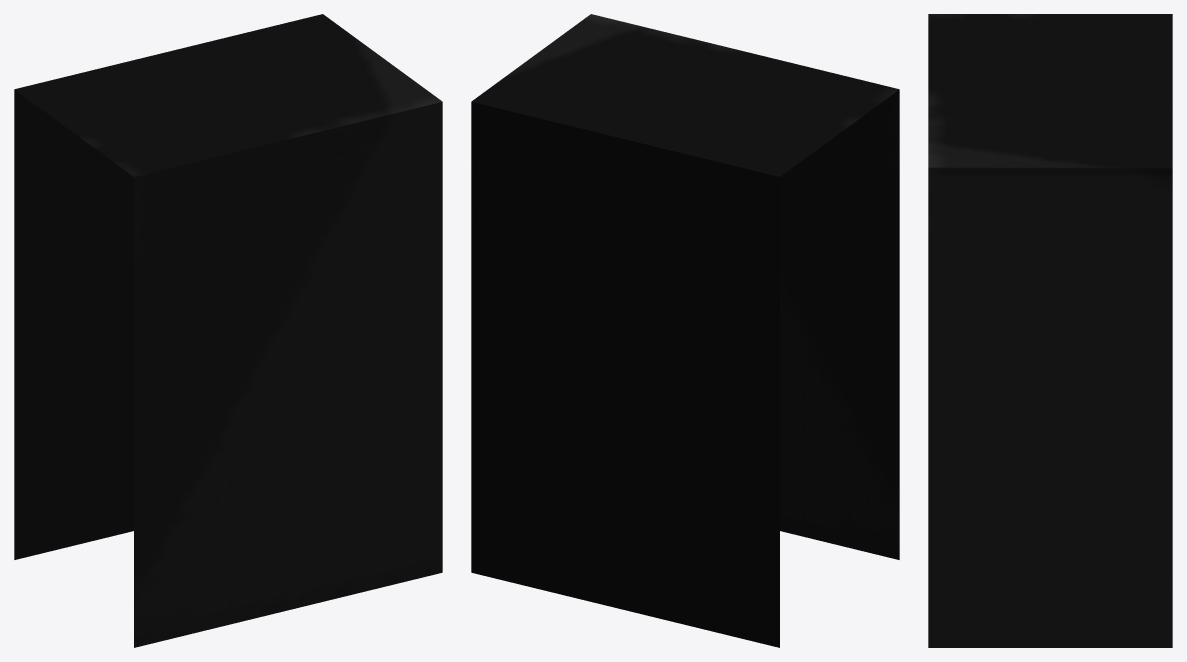
File: Tx_prop_CPU_computing.fbx
The picture shows the model from 3 angles, left to right: view 1: azimuth 30°, elevation 25°; view 2: azimuth 150°, elevation 25°; view 3: azimuth 270°, elevation 25°; orthographic projection.
Parts seen in each view (by area): view 1: Tx_prop_CPU_computing; view 2: Tx_prop_CPU_computing; view 3: Tx_prop_CPU_computing.
Part boxes in pixels (x1=…): Tx_prop_CPU_computing: x1=14, y1=14, x2=442, y2=647; Tx_prop_CPU_computing: x1=471, y1=14, x2=899, y2=647; Tx_prop_CPU_computing: x1=928, y1=14, x2=1172, y2=647.
Bounding box in the file's own units: 2.87 × 4.18 × 1.93.
